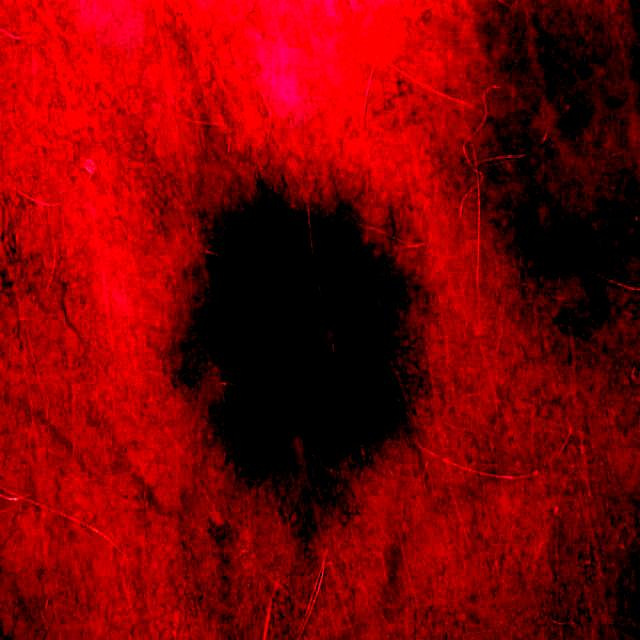NV: (166, 125, 435, 580)
